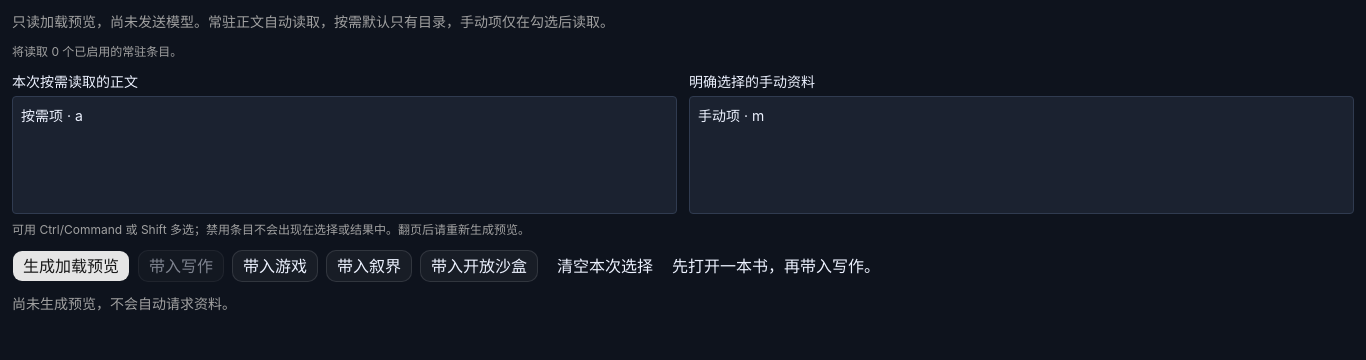
Test: library launch to Module4 (B4b) › refuses the sandbox launch when the secure host session is unavailable
Click the button "带入开放沙盒" at (479, 266), box [420, 250, 538, 282]
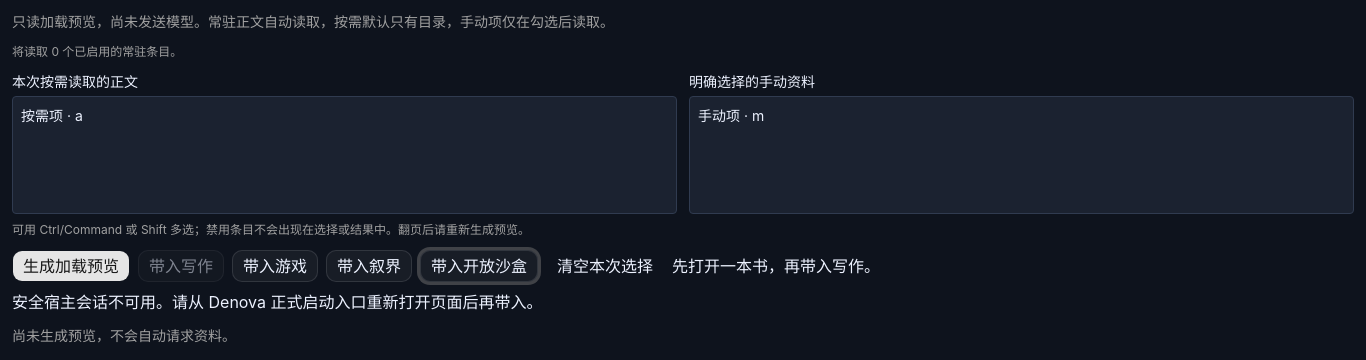
Check: the message "安全宿主会话不可用。请从 Denova 正式启动入口重新打开页面后再带入。" is shown, box [12, 290, 542, 314]
